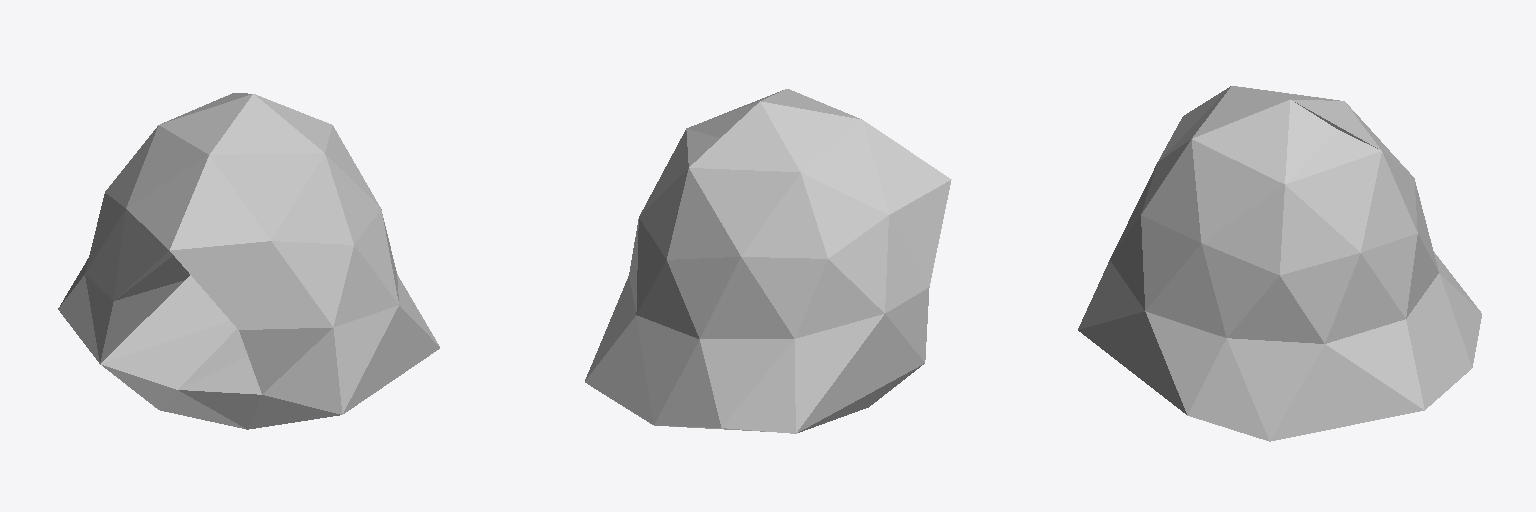
Rendered from cave_entrance.obj.
3 views of the same model, side by side, from view 1: azimuth 30°, elevation 25°; view 2: azimuth 150°, elevation 25°; view 3: azimuth 270°, elevation 25° (orthographic).
Visible parts, largest first — view 1: Icosphere; view 2: Icosphere; view 3: Icosphere.
Boxes of the visible parts, <box> form: Icosphere: <box>58,93,439,429</box>; Icosphere: <box>585,89,951,433</box>; Icosphere: <box>1078,86,1481,441</box>.
Bounding box in the file's own units: 10.04 × 9.67 × 11.24.